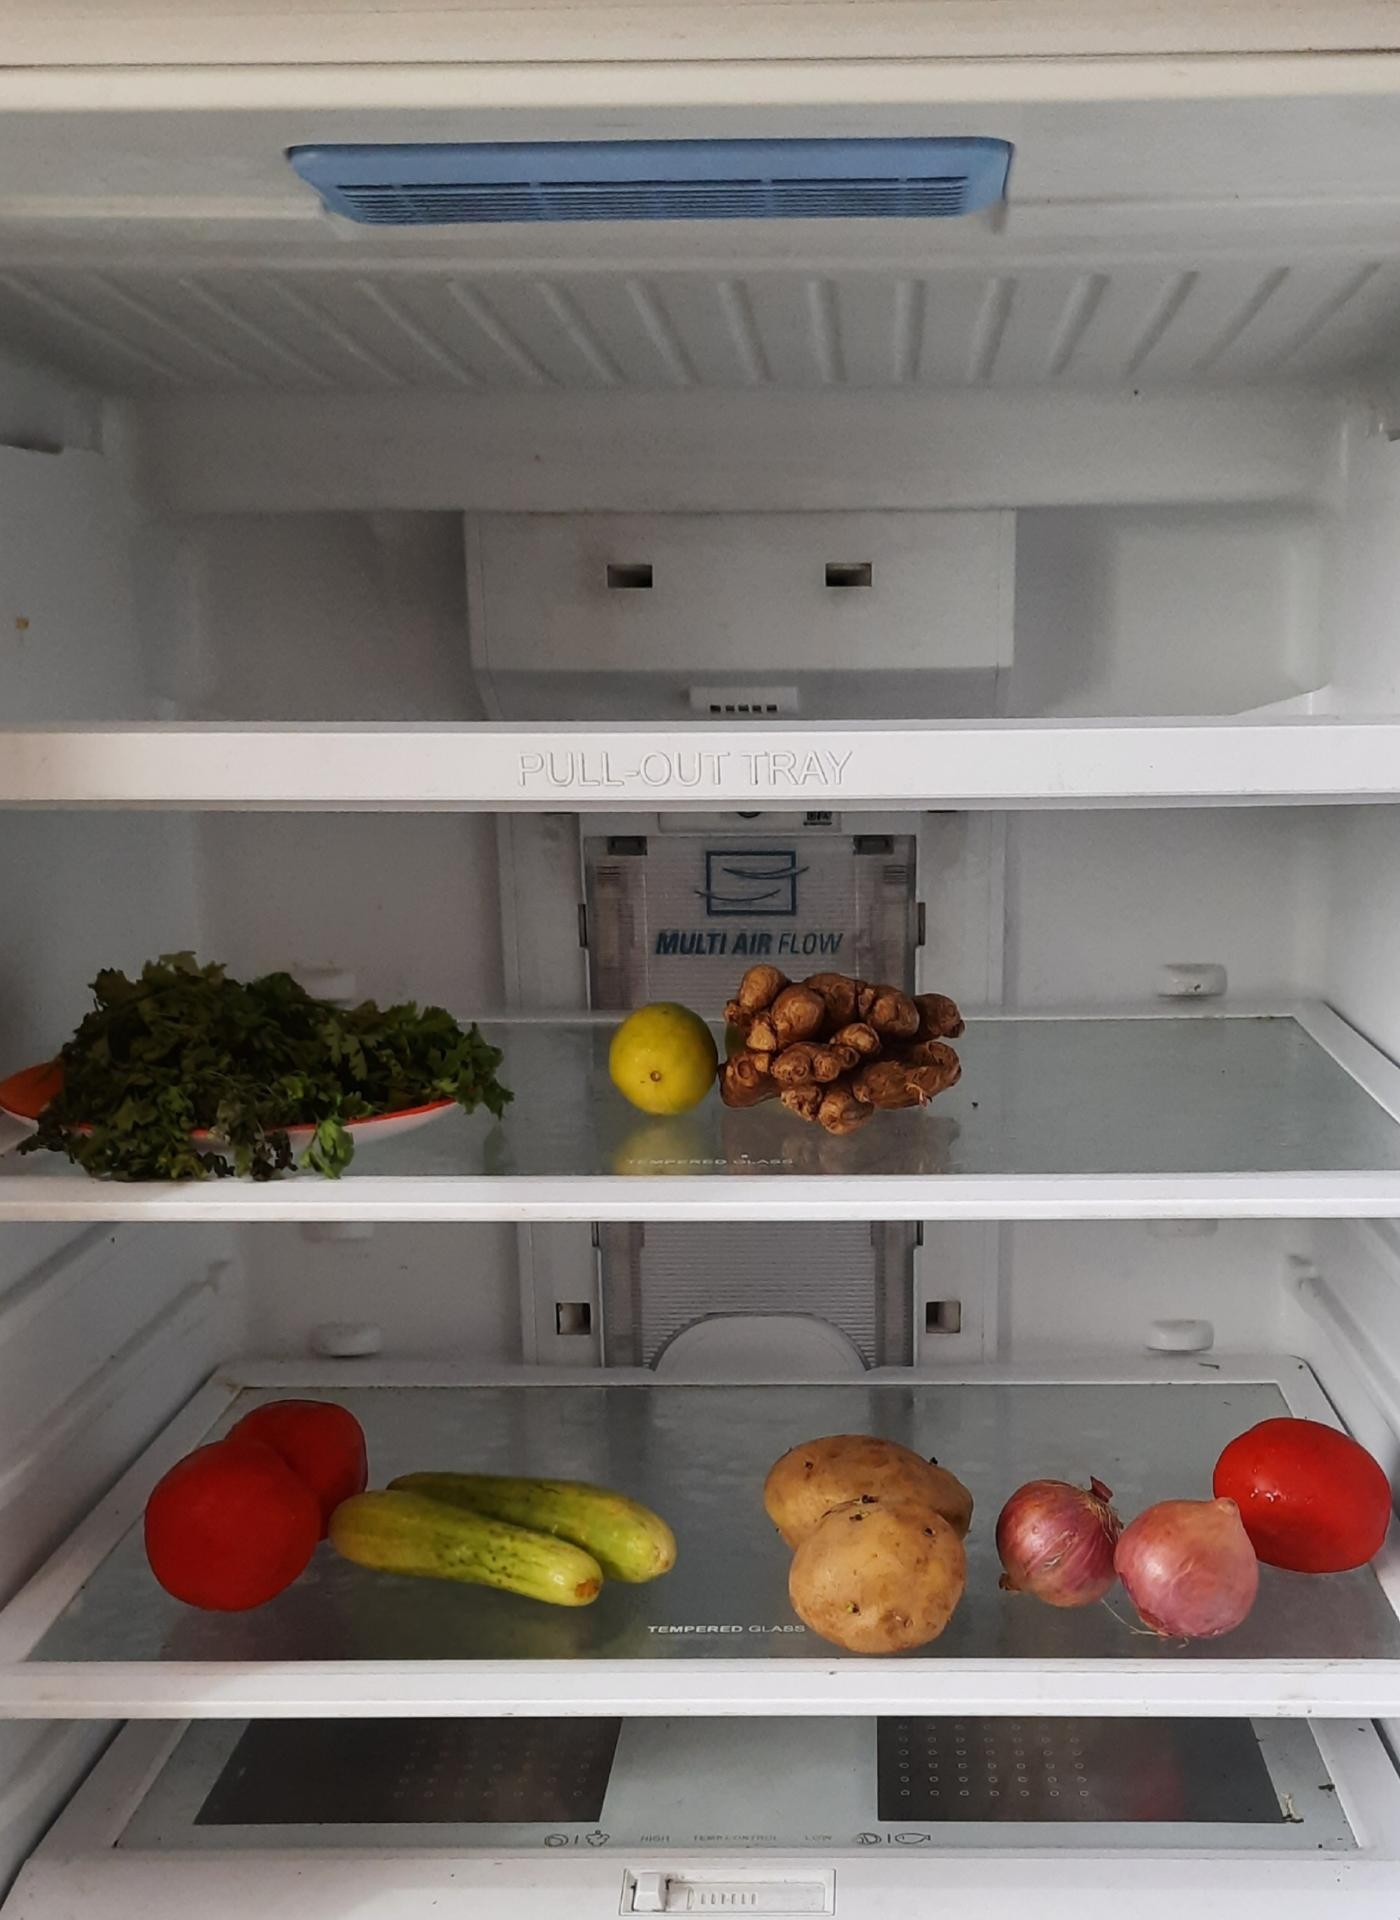coriander: (43, 938, 526, 1188)
cucumber: (335, 1461, 681, 1607)
ginger: (723, 973, 972, 1143)
lemon: (611, 1002, 719, 1121)
onion: (1003, 1468, 1275, 1646)
potato: (762, 1433, 974, 1667)
tomato: (148, 1388, 370, 1610), (1223, 1425, 1397, 1576)
